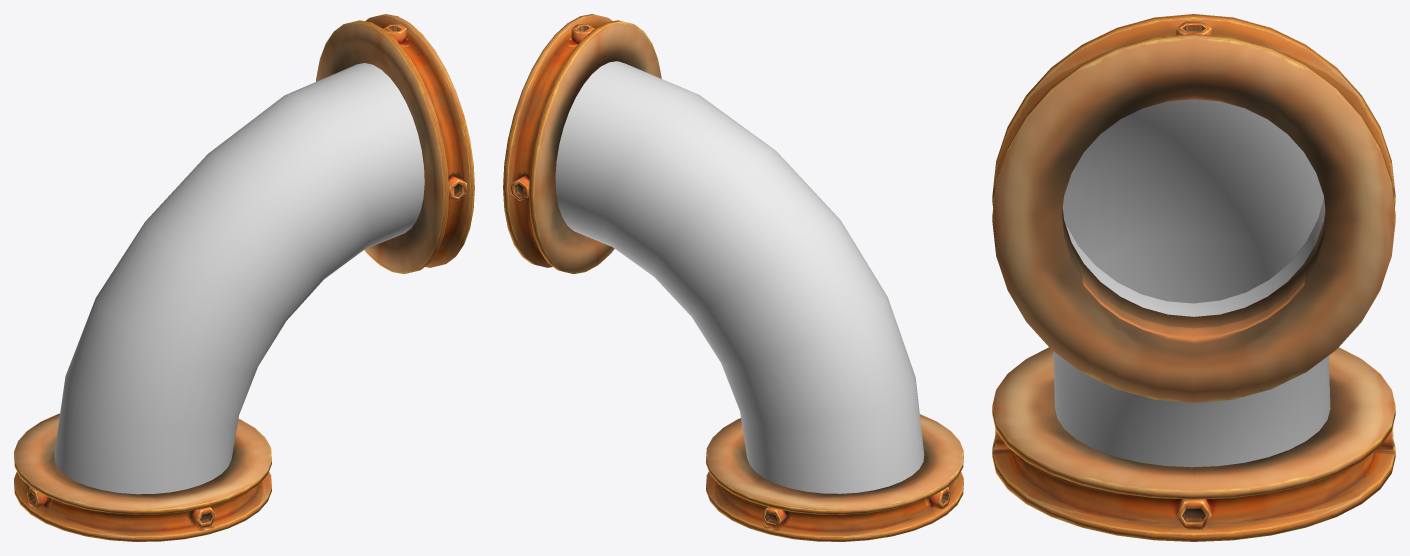
Rendered from Pipe_Bend.fbx.
3 views of the same model, side by side, from view 1: azimuth 30°, elevation 25°; view 2: azimuth 150°, elevation 25°; view 3: azimuth 270°, elevation 25° (orthographic). The views are drawn at different scales.
Parts seen in each view (by area): view 1: Cylinder.001, Cylinder; view 2: Cylinder.001, Cylinder; view 3: Cylinder, Cylinder.001.
Boxes of the visible parts, bbox=[...] form: Cylinder.001: bbox=[54, 63, 424, 494]; Cylinder: bbox=[14, 14, 474, 541]; Cylinder.001: bbox=[555, 61, 924, 493]; Cylinder: bbox=[503, 14, 963, 541]; Cylinder: bbox=[992, 14, 1395, 541]; Cylinder.001: bbox=[1053, 99, 1330, 467].
Size of the model in its own units: 283 by 284 by 167.
